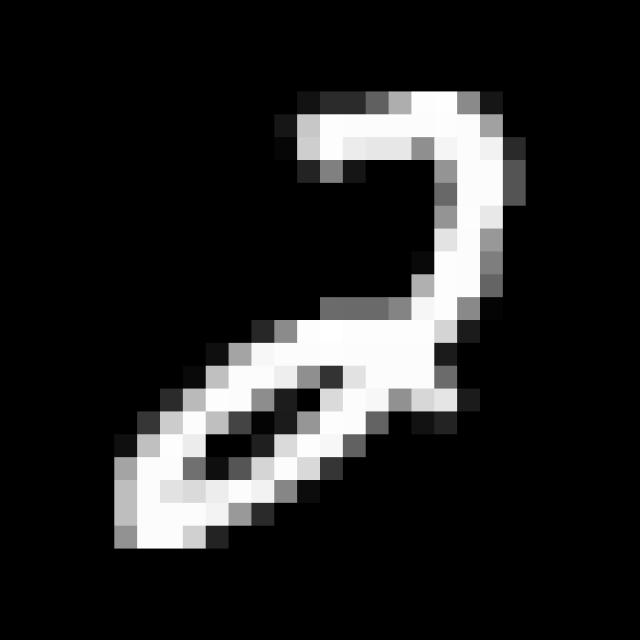two -2-: (101, 80, 533, 566)
